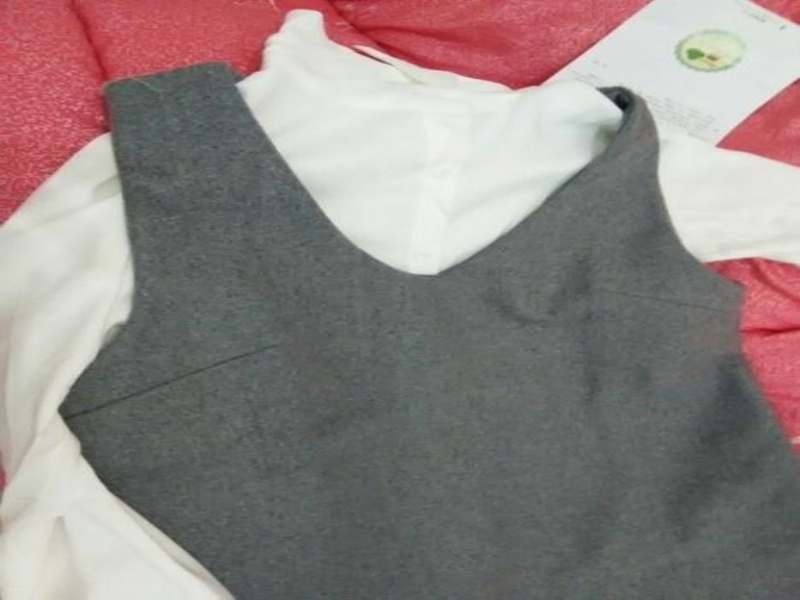long_sleeved_shirt: (3, 5, 797, 599)
vest_dress: (46, 55, 797, 599)
